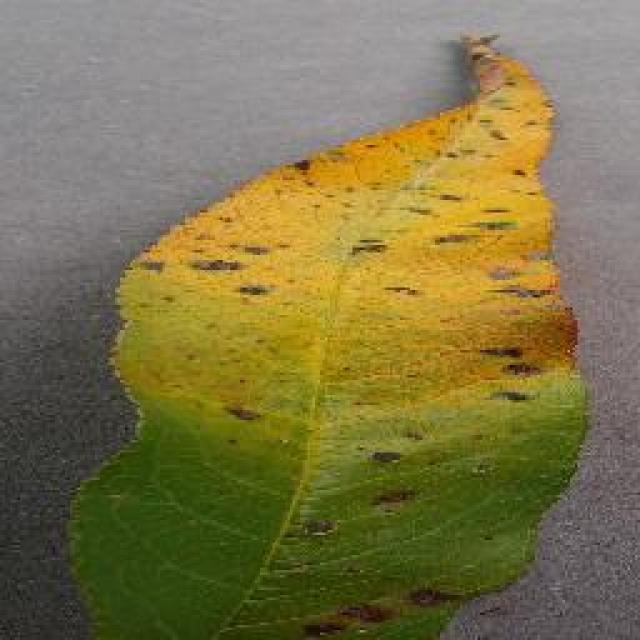Peach_Bacterial_Spot: (266, 118, 552, 407)
